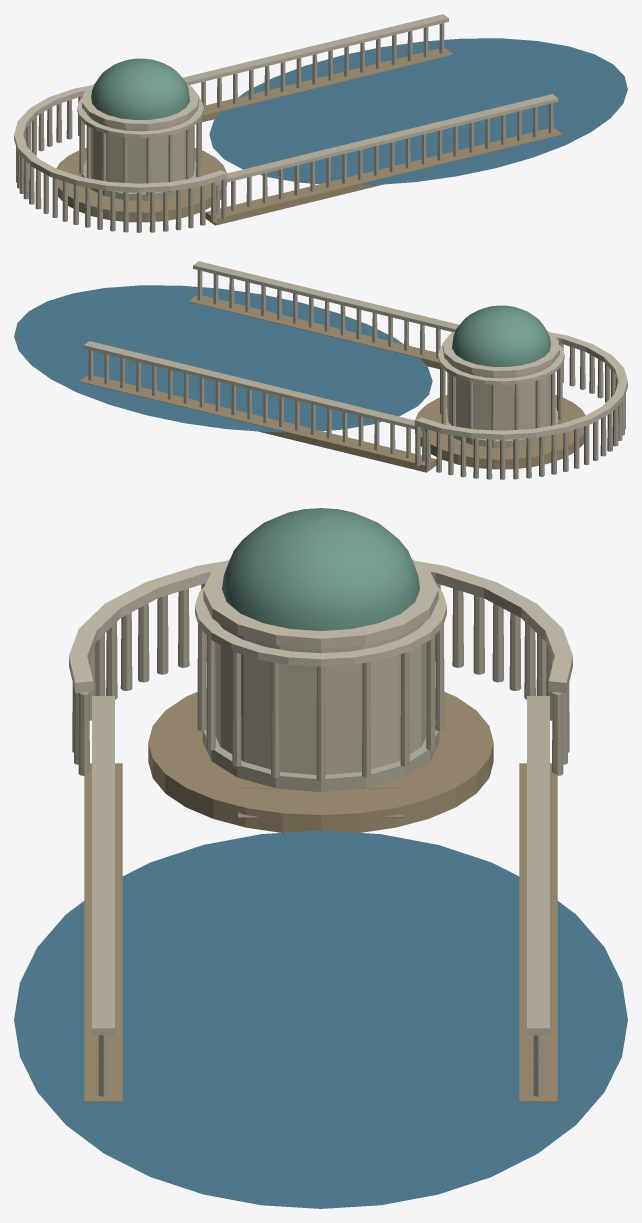
Rendered from desktop.glb.
3 views of the same model, one above another, from view 1: azimuth 30°, elevation 25°; view 2: azimuth 150°, elevation 25°; view 3: azimuth 270°, elevation 25° (orthographic). The views are drawn at different scales.
Visible parts, largest first — view 1: lm.palace-fine-arts; view 2: lm.palace-fine-arts; view 3: lm.palace-fine-arts.
Boxes of the visible parts, x1,y1,x2,y2 form: lm.palace-fine-arts: (14, 14, 627, 232); lm.palace-fine-arts: (14, 261, 627, 479); lm.palace-fine-arts: (14, 508, 627, 1208).
Bounding box in the file's own units: 209 × 41.8 × 96.
